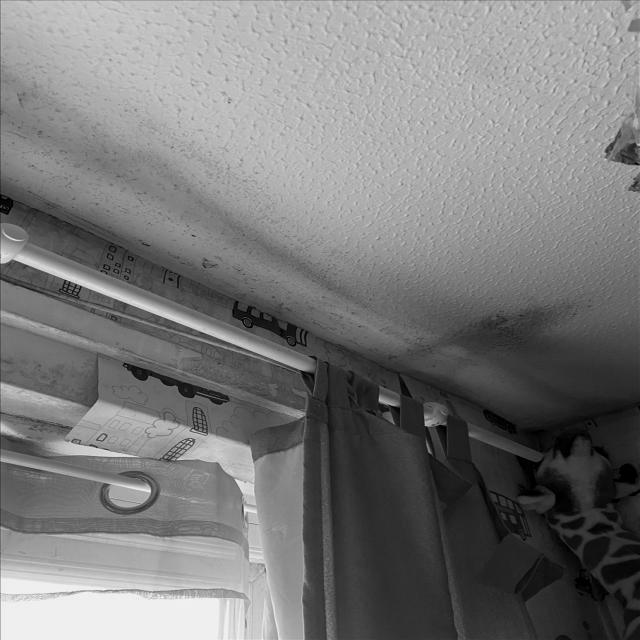stain marks: (0, 53, 323, 187), (114, 189, 396, 327), (381, 282, 618, 383)
